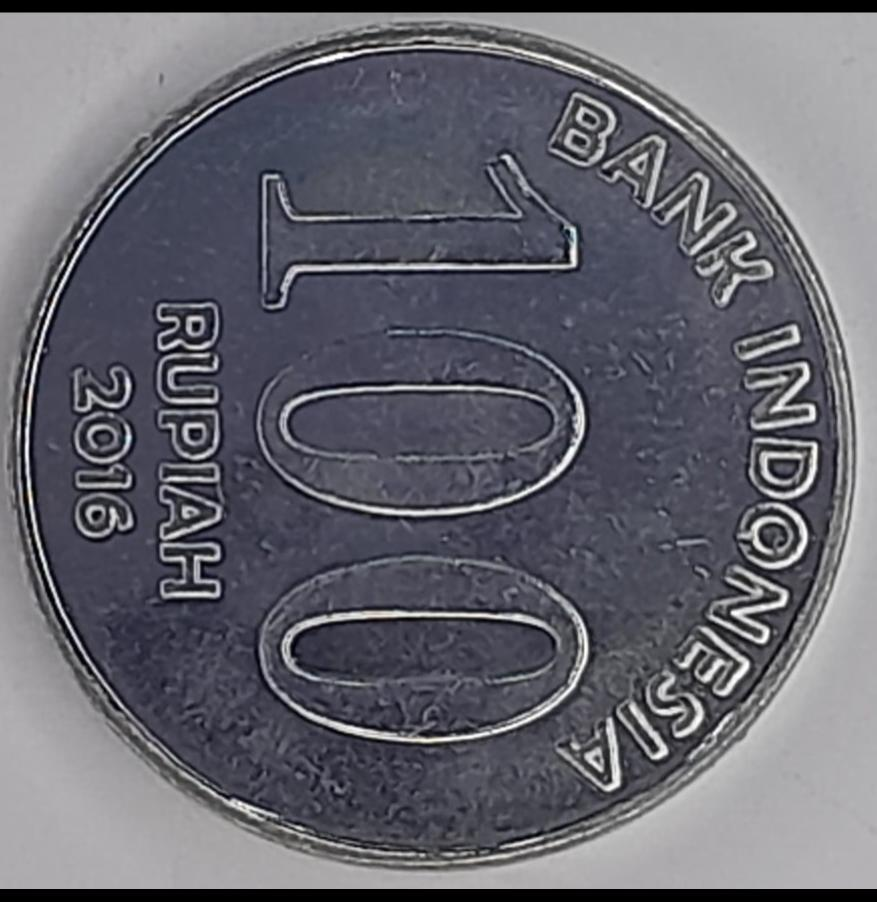coin_100_e2016: (2, 16, 861, 872)
